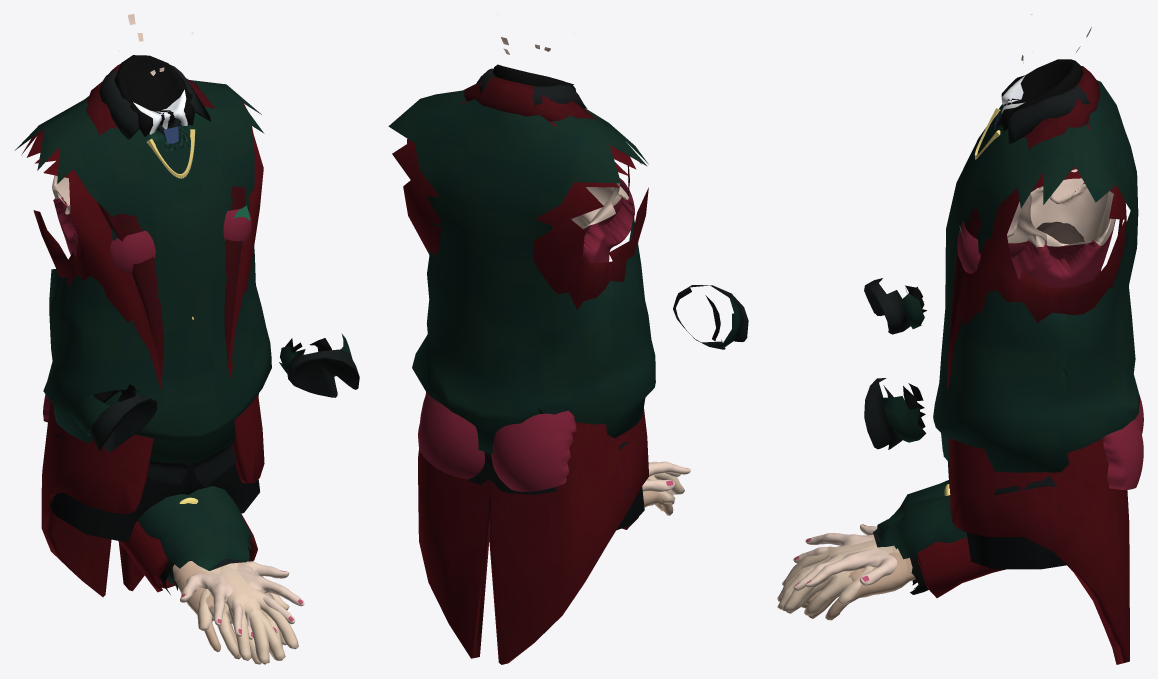
The model's file is vip_ai_players.glb.
3 views of the same model, side by side, from view 1: azimuth 30°, elevation 25°; view 2: azimuth 150°, elevation 25°; view 3: azimuth 270°, elevation 25° (orthographic). The views are drawn at different scales.
Parts seen in each view (by area): view 1: Bao_Torso, Marcus_Torso, Bao_LeftArm, Bao_RightArm, Elena_Torso, Marcus_LeftArm, Elena_RightArm, Elena_LeftArm, Viktor_Torso; view 2: Bao_Torso, Marcus_Torso, Elena_Torso, Elena_RightArm; view 3: Bao_Torso, Marcus_Torso, Elena_Torso, Bao_RightArm, Marcus_RightArm, Bao_LeftArm, Elena_LeftArm, Elena_RightArm, Elena_Head.
Part boxes in pixels (<box>): Bao_Torso: <box>14,65,359,541</box>; Marcus_Torso: <box>21,55,331,596</box>; Bao_LeftArm: <box>137,494,298,664</box>; Bao_RightArm: <box>189,486,286,664</box>; Elena_Torso: <box>43,14,251,422</box>; Marcus_LeftArm: <box>118,521,240,659</box>; Elena_RightArm: <box>179,497,253,639</box>; Elena_LeftArm: <box>232,561,304,632</box>; Viktor_Torso: <box>133,90,250,220</box>; Bao_Torso: <box>388,68,748,530</box>; Marcus_Torso: <box>392,64,720,664</box>; Elena_Torso: <box>418,14,634,491</box>; Elena_RightArm: <box>642,461,690,491</box>; Bao_Torso: <box>864,80,1139,569</box>; Marcus_Torso: <box>903,59,1129,664</box>; Elena_Torso: <box>957,14,1143,489</box>; Bao_RightArm: <box>777,495,967,615</box>; Marcus_RightArm: <box>802,537,1005,620</box>; Bao_LeftArm: <box>777,480,948,611</box>; Elena_LeftArm: <box>793,548,896,590</box>; Elena_RightArm: <box>793,484,950,563</box>; Elena_Head: <box>1036,221,1084,244</box>.
Size of the model in its own units: 0.5483 by 1.13 by 0.5985.
40 materials, 11 textured.
